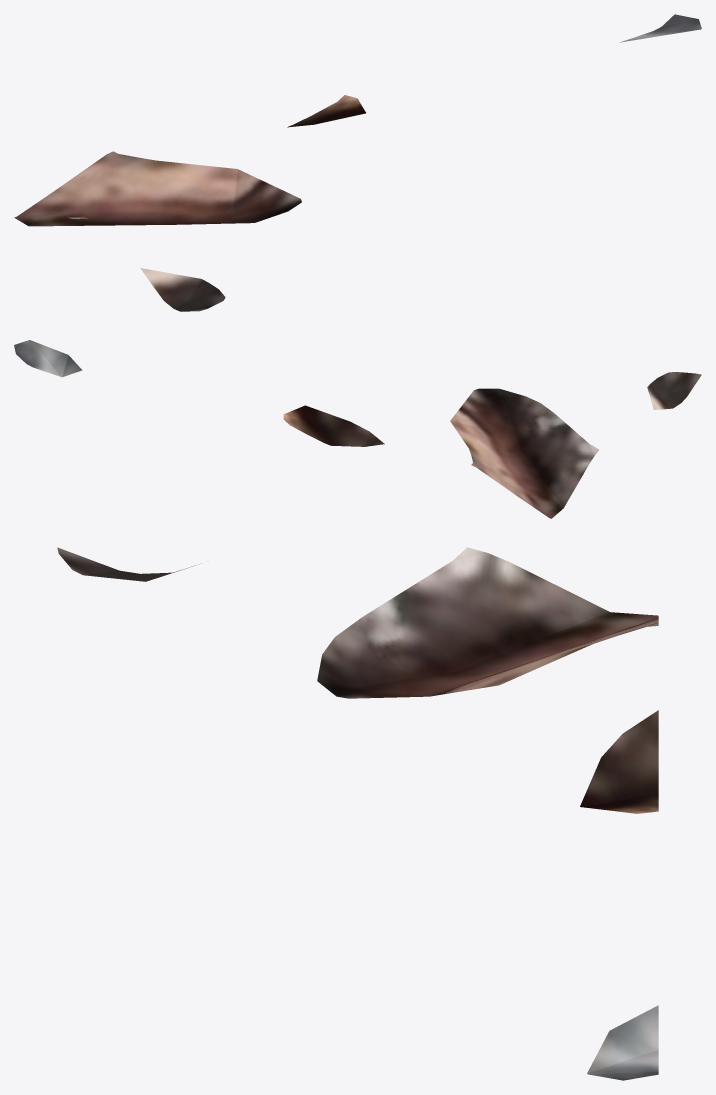
The picture shows the model from 3 angles, top to bottom: view 1: azimuth 30°, elevation 25°; view 2: azimuth 150°, elevation 25°; view 3: azimuth 270°, elevation 25°; orthographic projection. The views are drawn at different scales.
Size of the model in its own units: 0.6992 by 0.0417 by 0.3333.
1 material, 1 textured.
